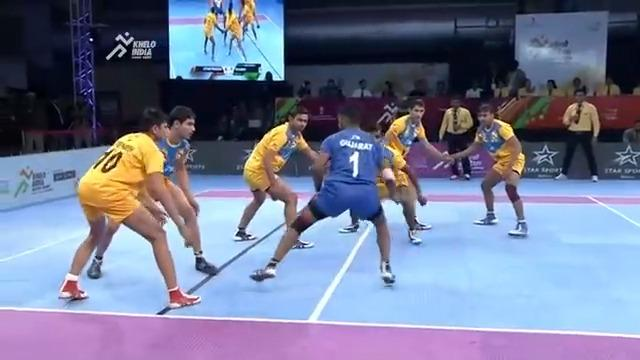Player: (57, 104, 206, 310), (433, 99, 533, 239), (231, 102, 324, 249), (159, 99, 207, 227), (384, 87, 429, 199)
Raider: (248, 101, 400, 288)
referee: (553, 87, 601, 182), (438, 94, 474, 180)
